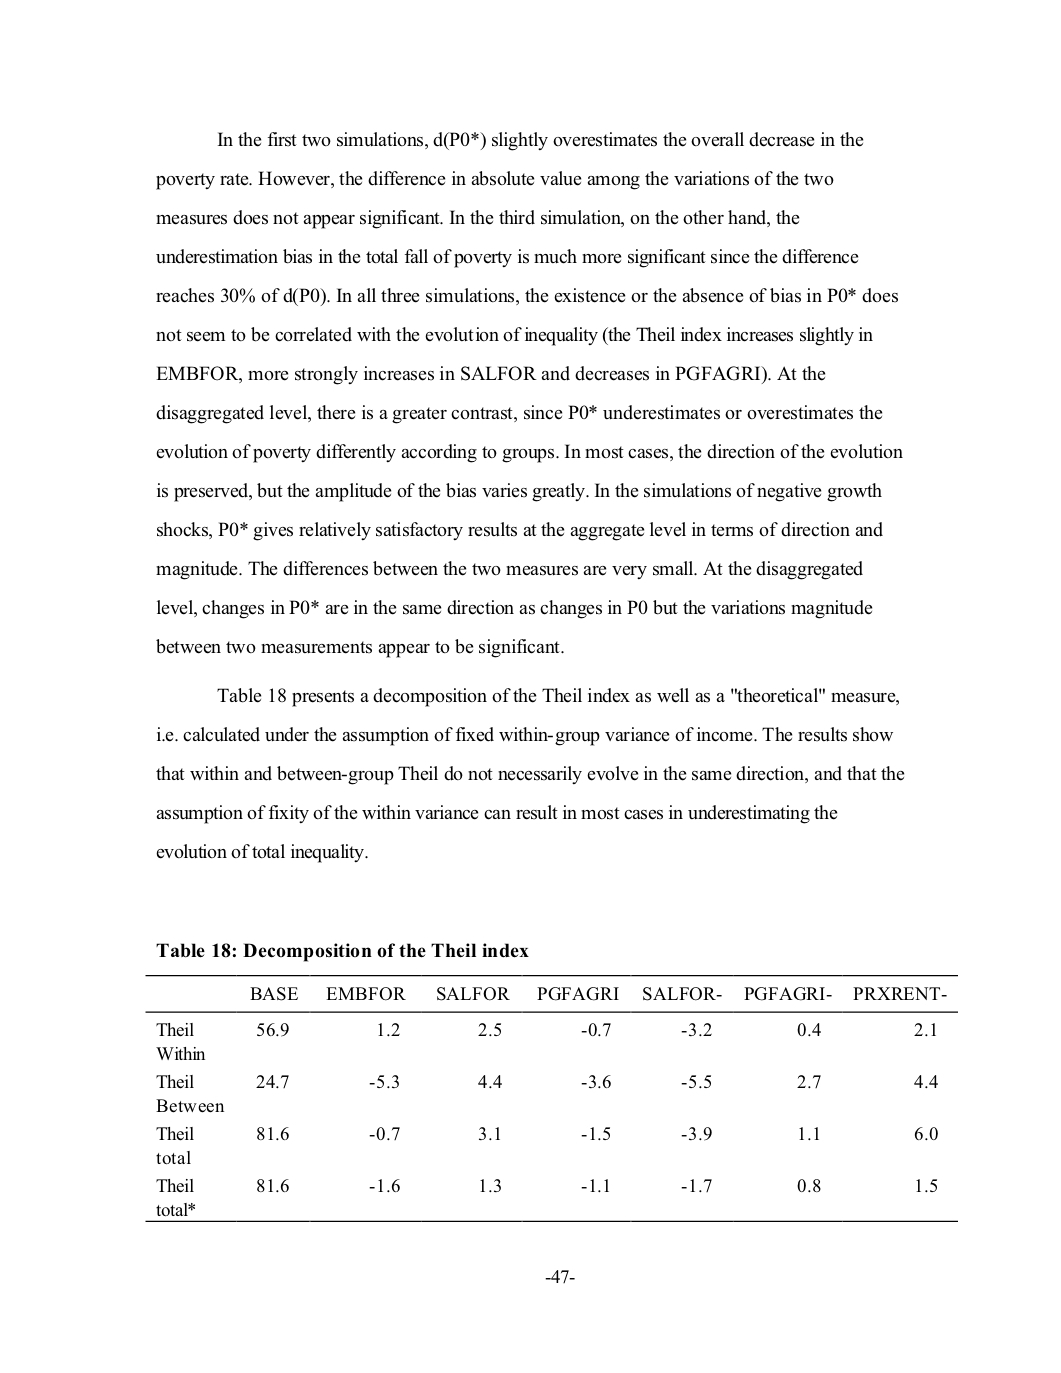Table: (145, 975, 957, 1221)
